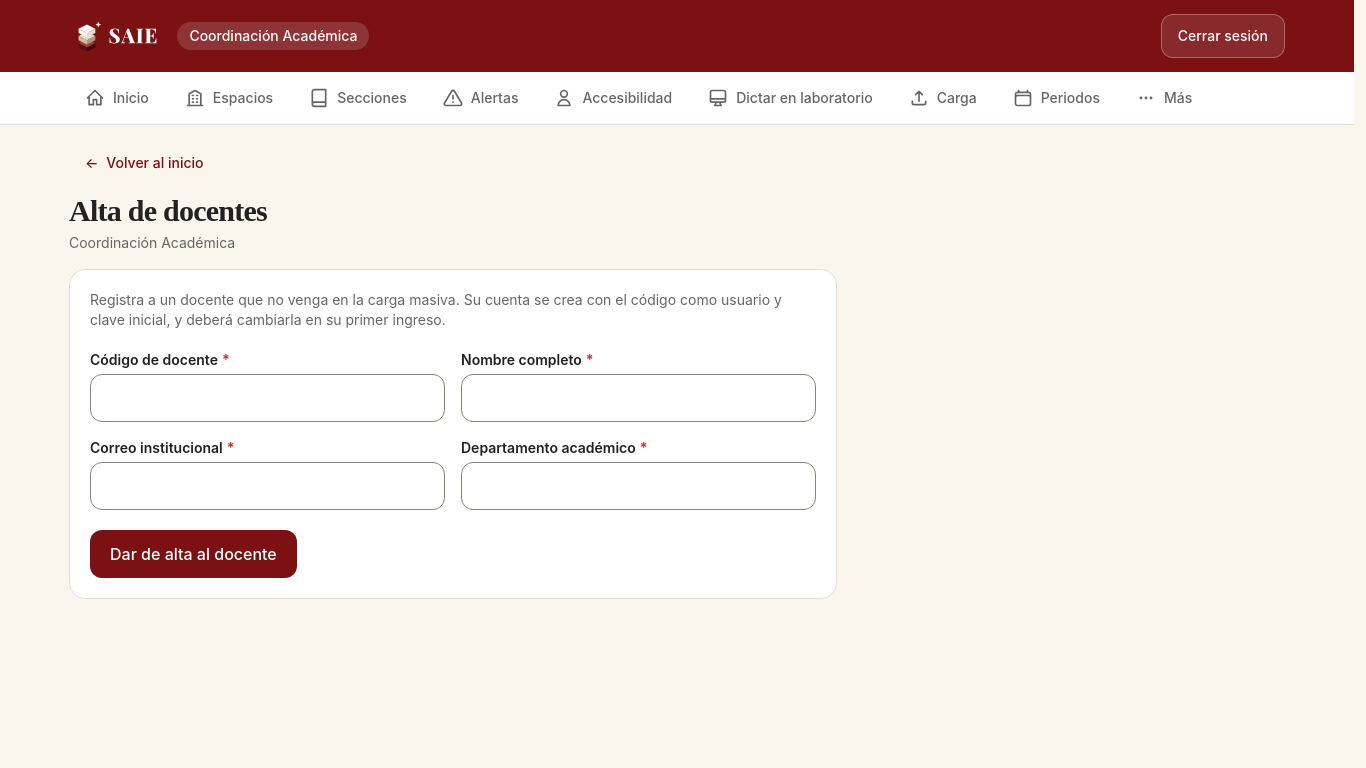
Scenario: AltaDocentePage (Issue 4.18) › exige los cuatro datos
Click the button "Dar de alta al docente": (193, 554) 90,530 -> 297,578
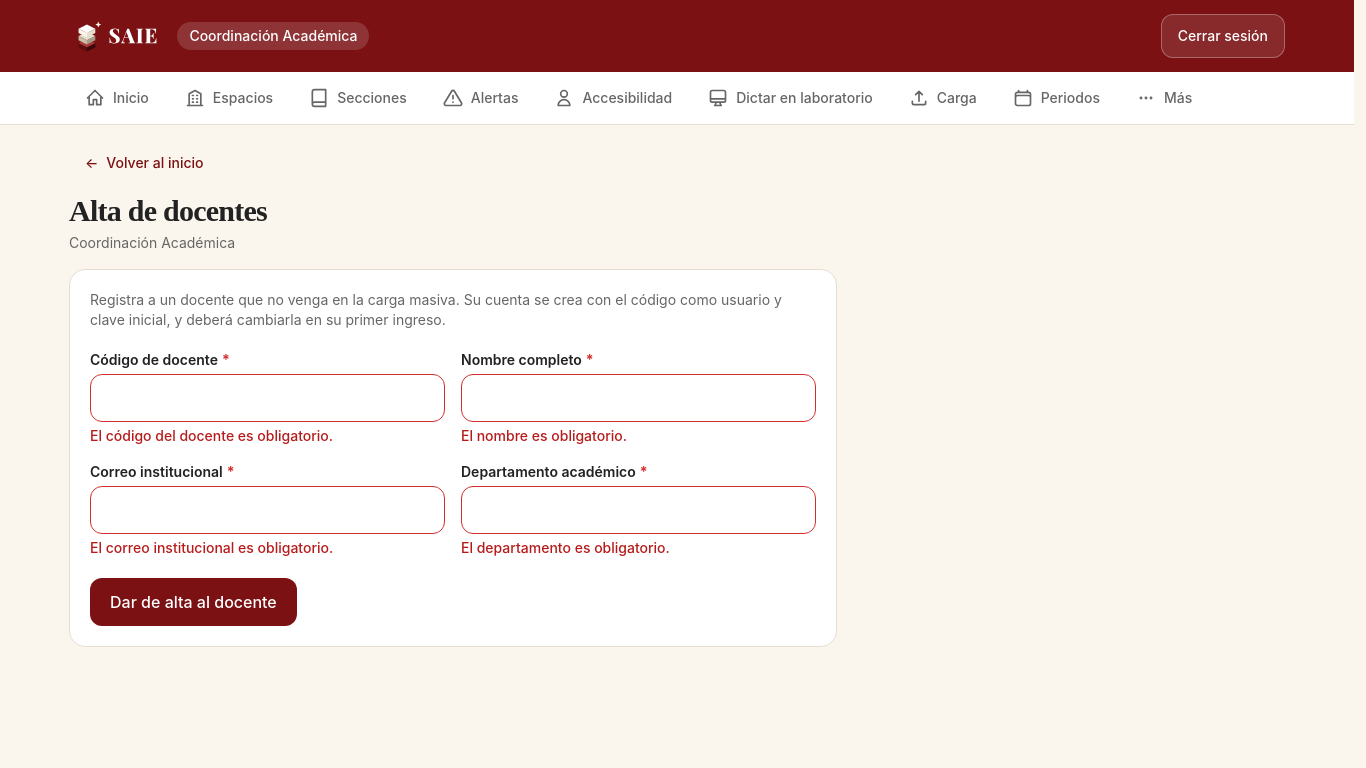
Result: the text "El código del docente es obligatorio." is shown at 90,427 -> 333,444
Result: the text "El departamento es obligatorio." is shown at 461,539 -> 670,556
